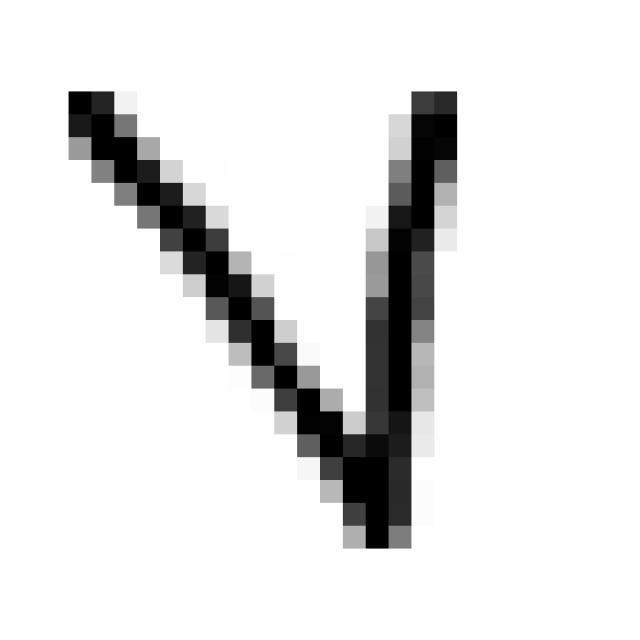7 -seven-: (53, 62, 480, 555)
